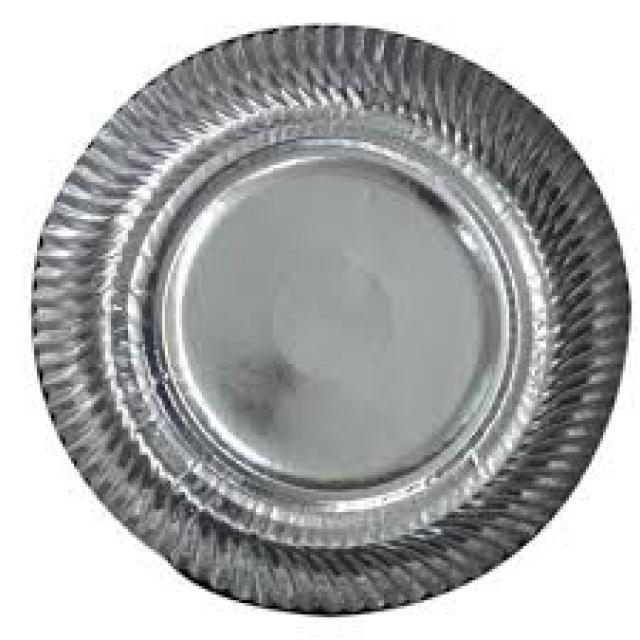metal: (37, 28, 631, 613)
